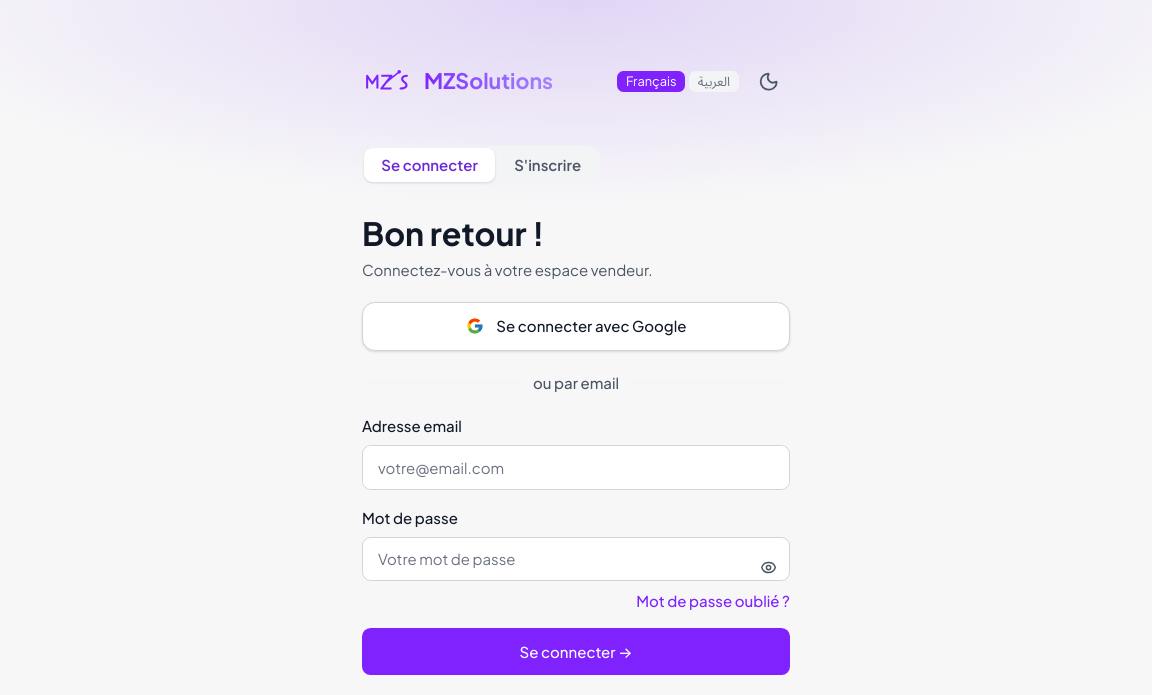
Test case: Auth page › shows a generic error on invalid credentials
In the field with placeholder "votre@email.com": (576, 467) [362,445,790,490], type "a@test.com"
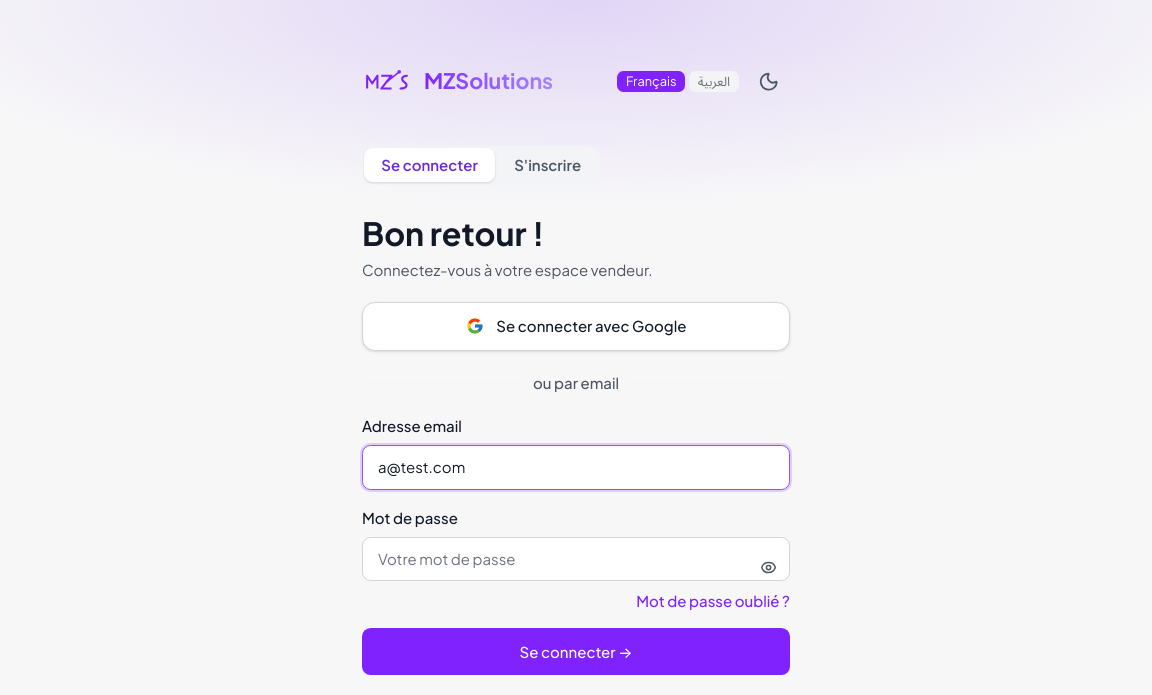
In the password field with placeholder "Votre mot de passe": (576, 559) [362,537,790,581], type "wrong"
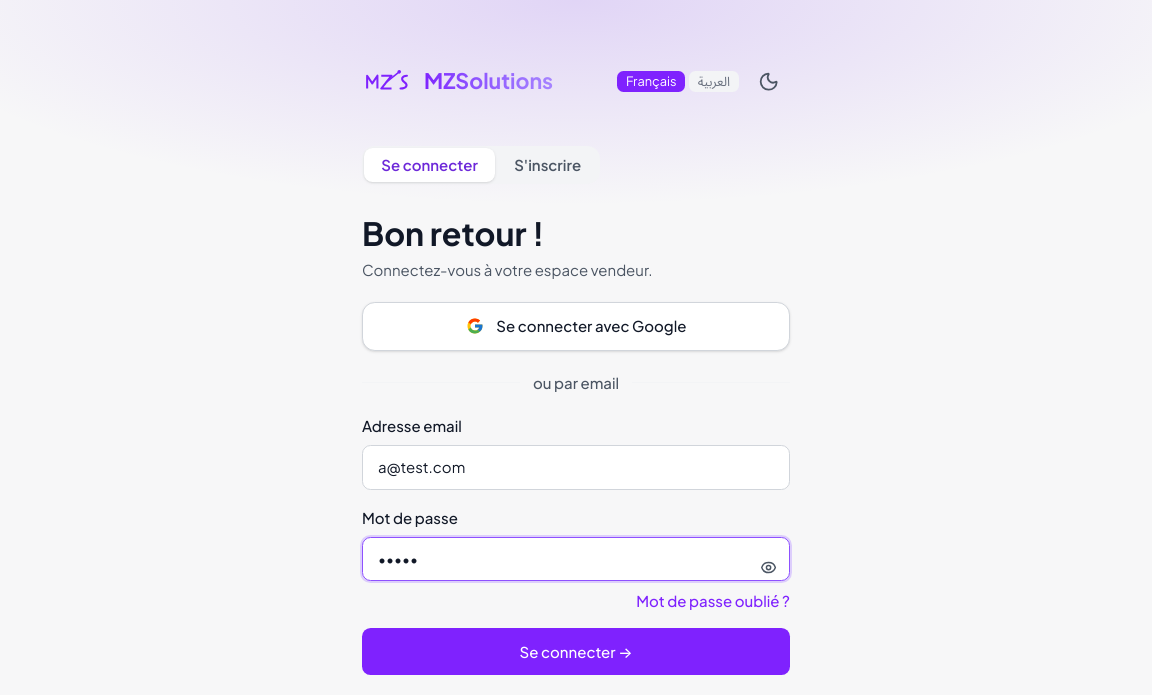
Click the button "Se connecter →": (576, 652) [362,628,790,676]
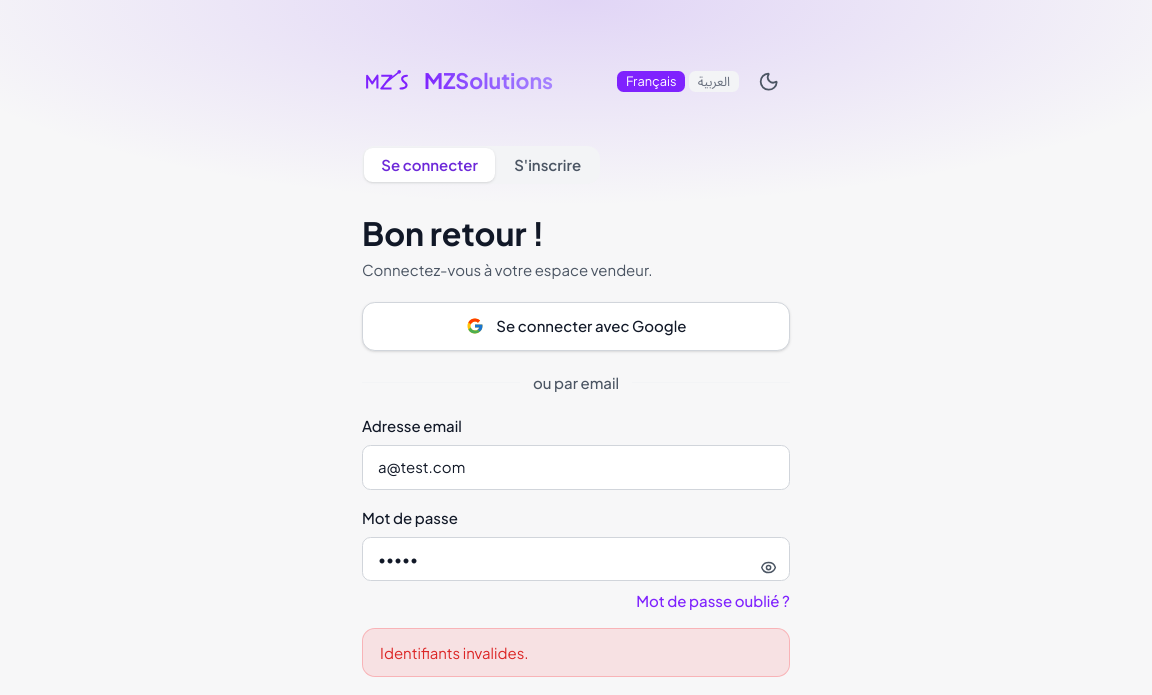
Check: the text "Identifiants invalides." is shown, box [362,628,790,678]
